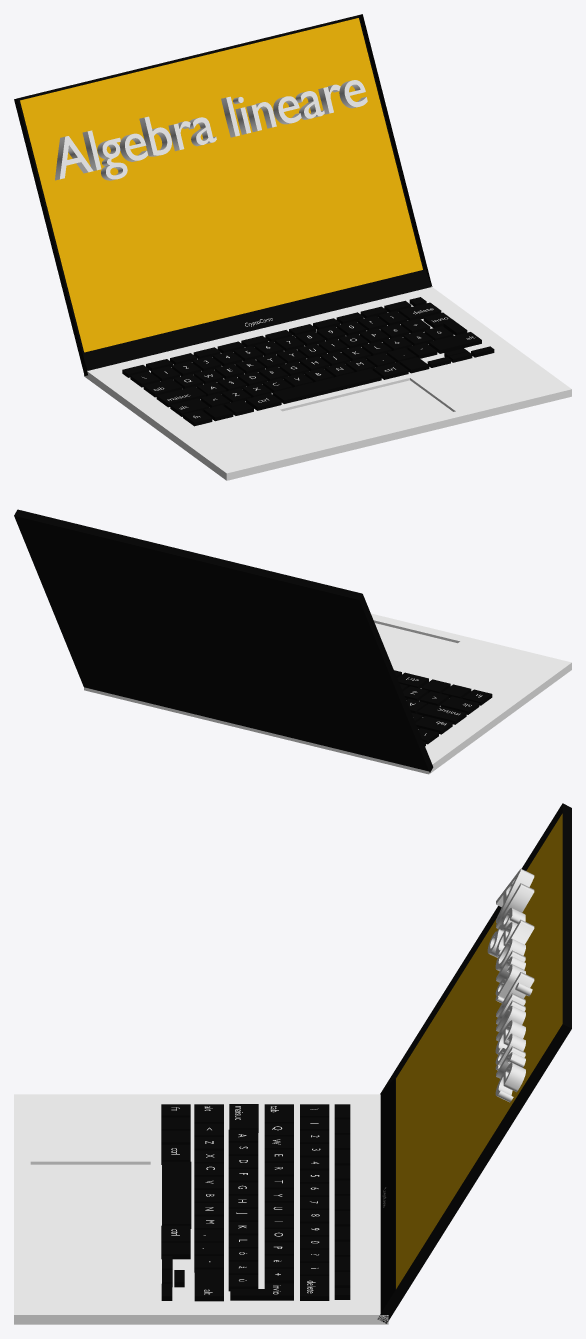
The model's file is algebra.glb.
3 views of the same model, one above another, from view 1: azimuth 30°, elevation 25°; view 2: azimuth 150°, elevation 25°; view 3: azimuth 270°, elevation 25° (orthographic). The views are drawn at different scales.
Parts seen in each view (by area): view 1: Cube.073, Cube, Text, Cube.074, Cube.001, Cube.072, Cube.123; view 2: Cube.001, Cube, Cube.065, Cube.064, Cube.066, Cube.071; view 3: Cube, Cube.073, Cube.001, Text, Cube.074, Cube.072, Cube.123, Cube.065, Cube.027.
Part boxes in pixels (left/top/right/bottom): Cube.073: left=20, top=18, right=422, bottom=352; Cube: left=84, top=286, right=571, bottom=480; Text: left=55, top=80, right=367, bottom=180; Cube.074: left=82, top=269, right=431, bottom=370; Cube.001: left=14, top=14, right=432, bottom=375; Cube.072: left=272, top=368, right=381, bottom=403; Cube.123: left=428, top=332, right=481, bottom=353; Cube.001: left=14, top=509, right=433, bottom=772; Cube: left=84, top=613, right=571, bottom=774; Cube.065: left=417, top=703, right=466, bottom=724; Cube.064: left=440, top=696, right=479, bottom=714; Cube.066: left=415, top=716, right=452, bottom=734; Cube.071: left=397, top=672, right=428, bottom=688; Cube: left=14, top=1094, right=388, bottom=1324; Cube.073: left=396, top=813, right=562, bottom=1288; Cube.001: left=377, top=803, right=571, bottom=1323; Text: left=487, top=869, right=534, bottom=1102; Cube.074: left=380, top=1077, right=396, bottom=1313; Cube.072: left=162, top=1161, right=191, bottom=1228; Cube.123: left=194, top=1269, right=223, bottom=1301; Cube.065: left=229, top=1104, right=258, bottom=1132; Cube.027: left=300, top=1276, right=329, bottom=1300.
Bounding box in the file's own units: 6.79 × 4.31 × 7.25.
